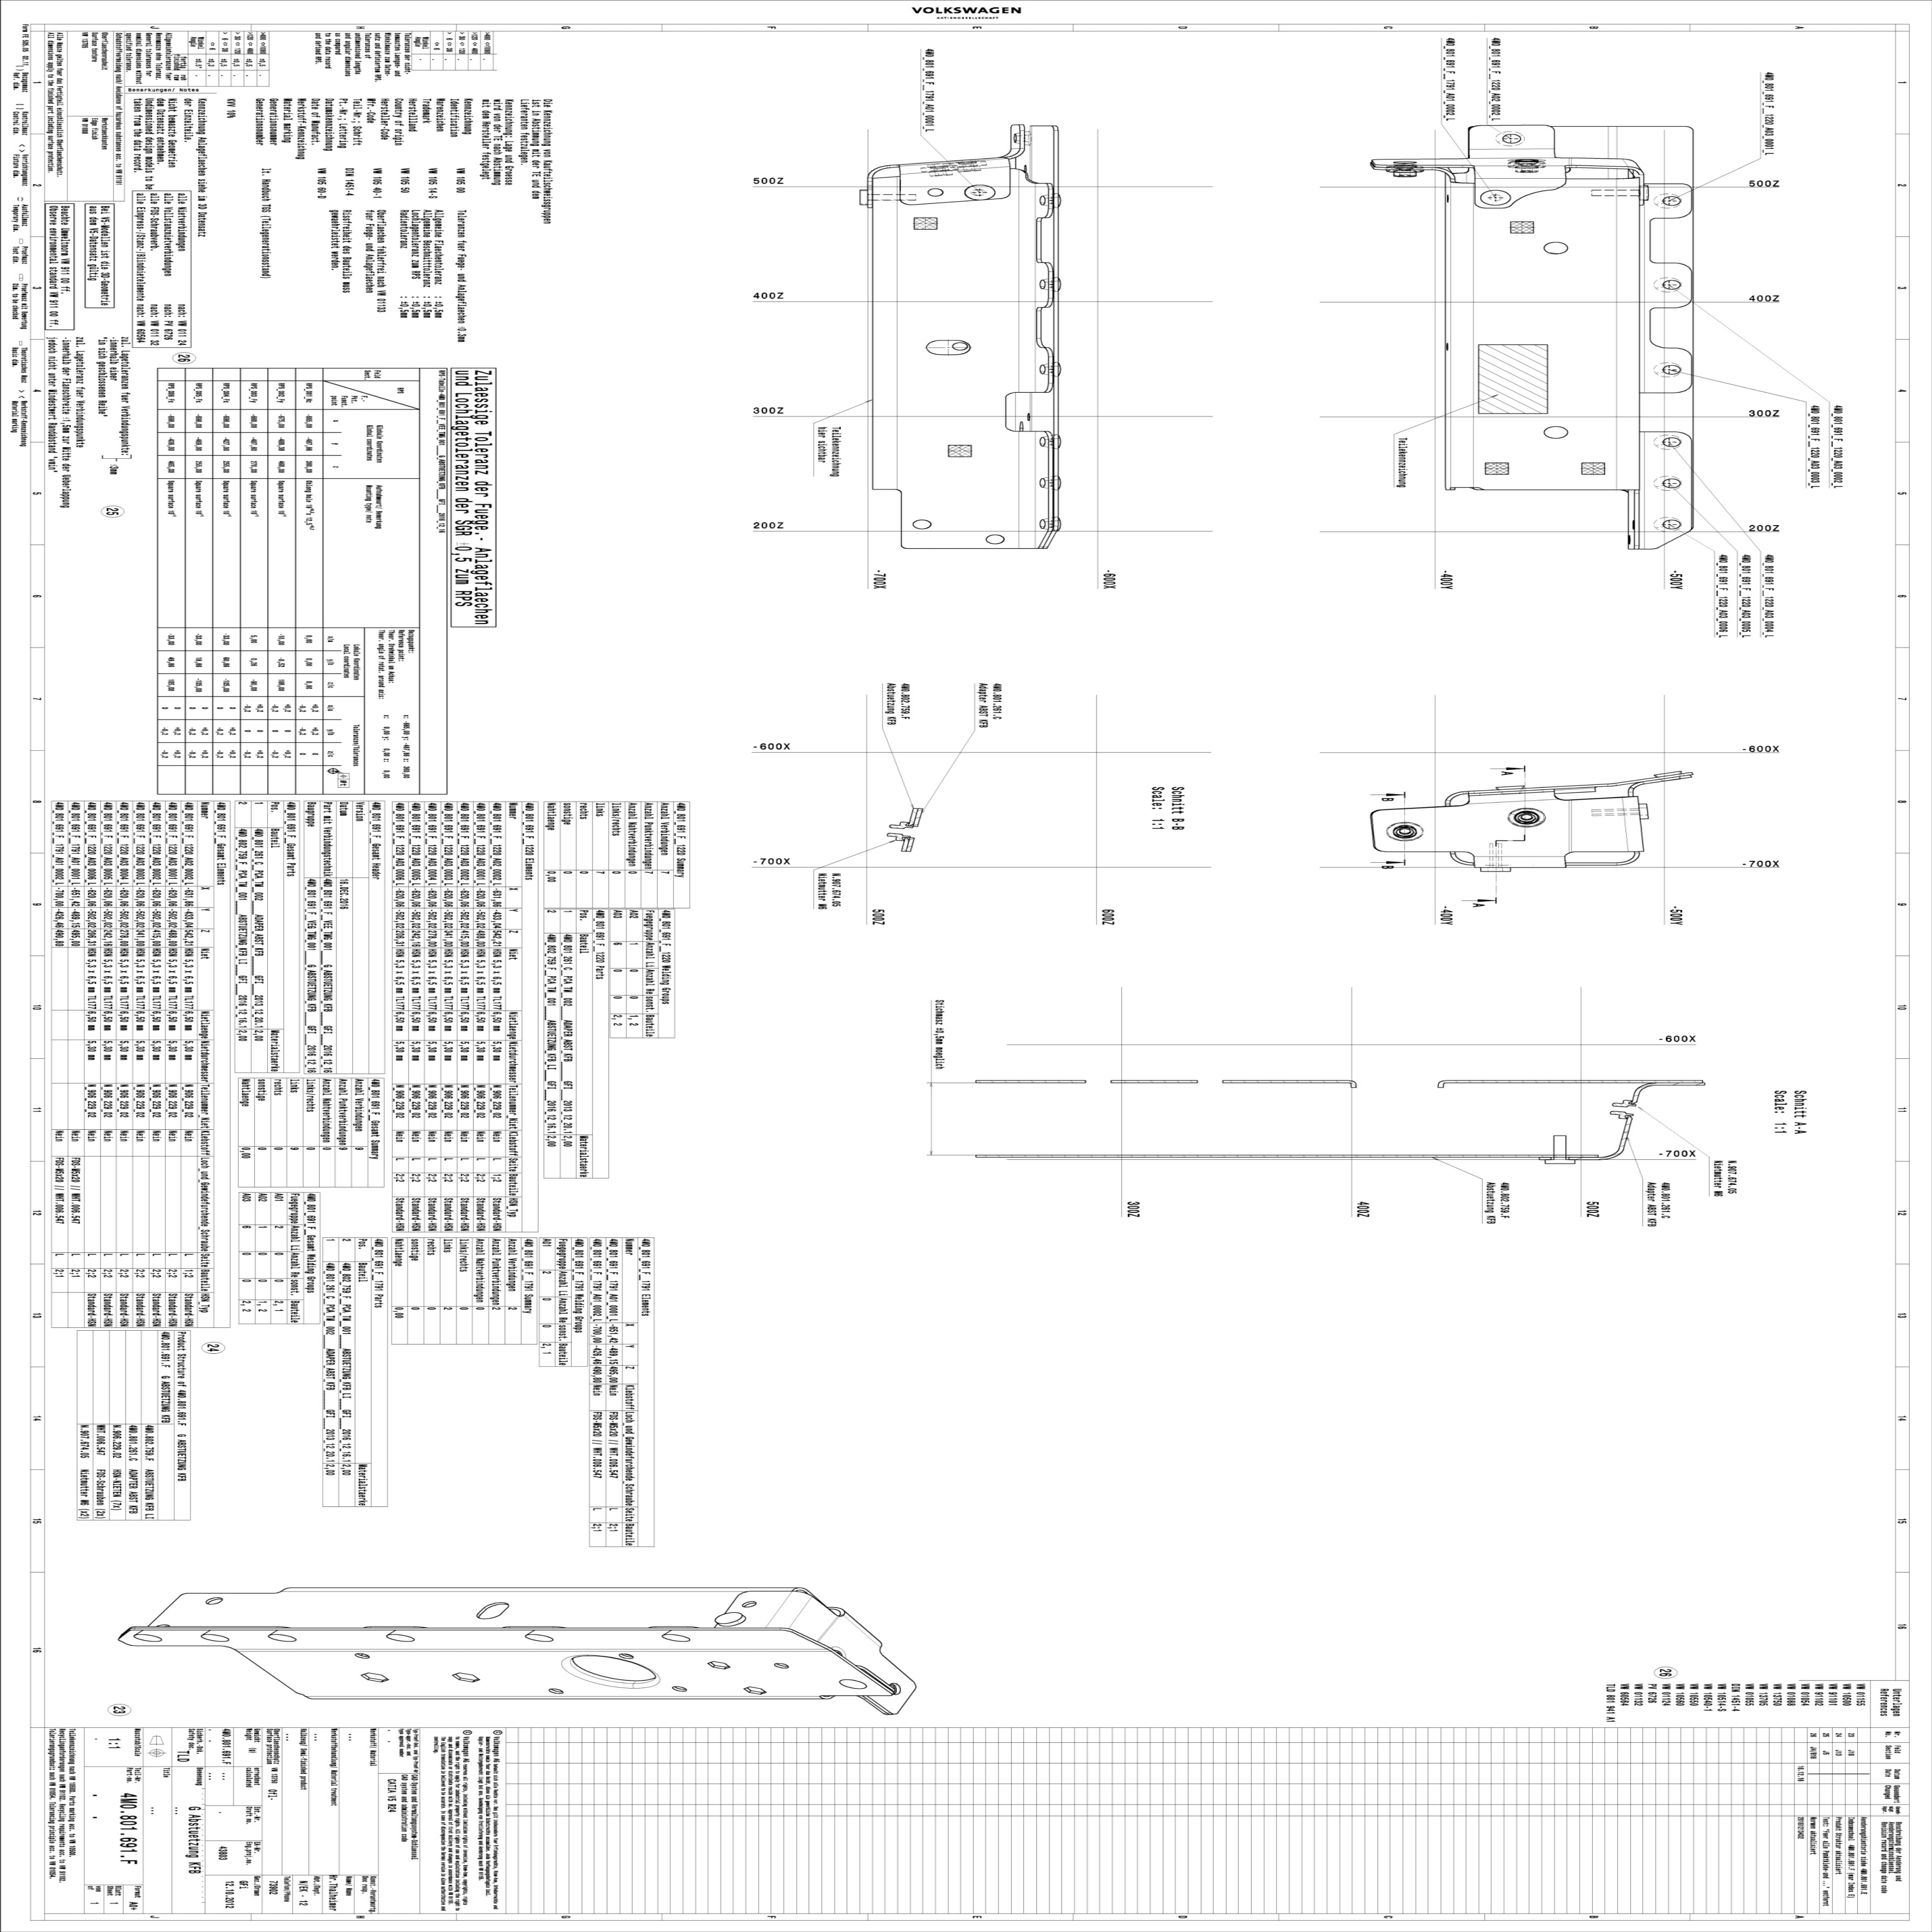BendingEdge: (766, 1579, 817, 1639), (832, 1601, 887, 1648), (306, 1697, 867, 1701), (237, 1649, 825, 1652), (1567, 801, 1572, 853)
InnerContour: (474, 1594, 512, 1625), (918, 338, 976, 358), (523, 1629, 559, 1648), (661, 1631, 693, 1647), (1540, 424, 1570, 440), (834, 1678, 869, 1692), (1541, 240, 1569, 256), (1661, 474, 1681, 493), (266, 1633, 298, 1644), (1659, 277, 1681, 293), (384, 1632, 416, 1643), (1659, 194, 1681, 209), (199, 1633, 230, 1643), (133, 1633, 162, 1644), (1660, 364, 1681, 378), (1661, 436, 1681, 450), (1660, 517, 1681, 531), (1502, 132, 1522, 146), (742, 1597, 762, 1610), (983, 534, 1006, 544), (774, 1659, 790, 1673), (912, 518, 932, 530), (924, 188, 945, 199), (204, 1595, 224, 1606), (1035, 276, 1046, 293), (671, 1684, 691, 1694), (1040, 473, 1048, 496), (545, 1686, 564, 1694), (1036, 194, 1046, 209), (620, 1651, 637, 1660), (354, 1652, 370, 1661), (1038, 363, 1047, 377), (1038, 515, 1046, 530), (1036, 437, 1048, 444)
InnerContourAngular: (452, 1669, 481, 1686), (361, 1668, 389, 1685), (742, 1683, 768, 1696), (708, 1658, 730, 1671)
Notch: (1648, 299, 1694, 354), (1005, 387, 1053, 438), (1649, 213, 1691, 270), (1032, 211, 1055, 266), (1034, 300, 1055, 350)
ThroughHole: (554, 1645, 666, 1698)
